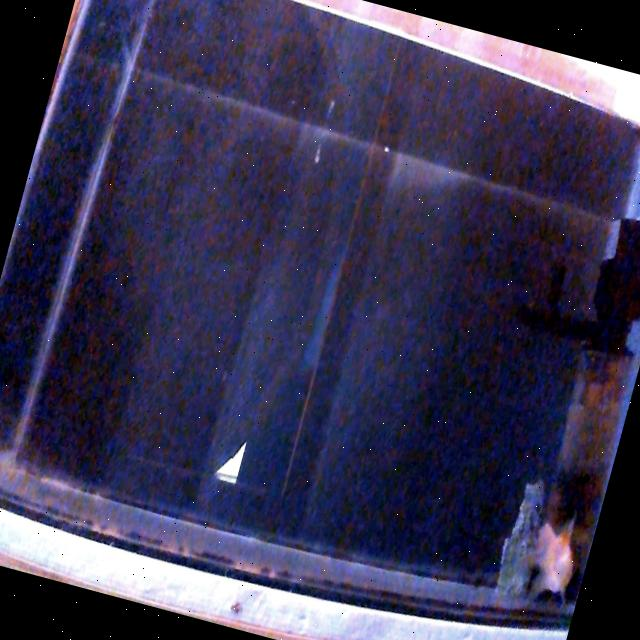fish: (534, 522, 573, 594)
